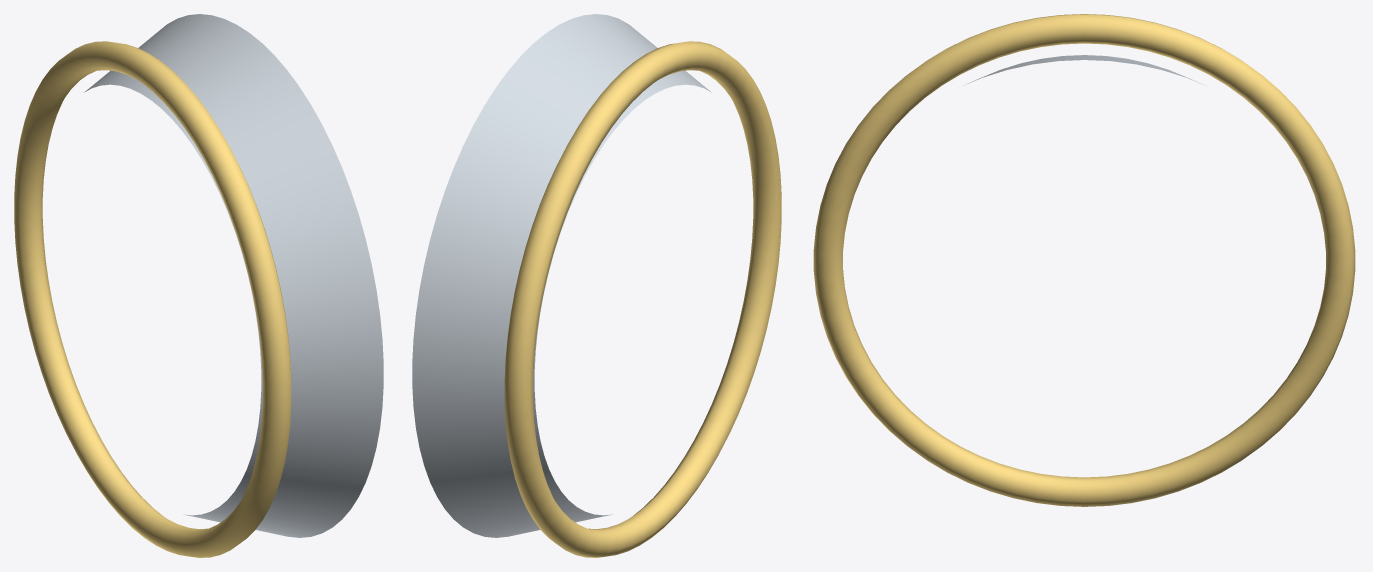
Rendered from 05_L85_DockingPassiveCaptureCone.glb.
The picture shows the model from 3 angles, left to right: view 1: azimuth 30°, elevation 25°; view 2: azimuth 150°, elevation 25°; view 3: azimuth 270°, elevation 25°; orthographic projection. The views are drawn at different scales.
Visible parts, largest first — view 1: L85_DockingPassiveCaptureCone_Part_0000, L85_DockingPassiveCaptureCone_Part_0001; view 2: L85_DockingPassiveCaptureCone_Part_0000, L85_DockingPassiveCaptureCone_Part_0001; view 3: L85_DockingPassiveCaptureCone_Part_0001, L85_DockingPassiveCaptureCone_Part_0000.
Boxes of the visible parts, box(x1,y1,x2,y2) form: L85_DockingPassiveCaptureCone_Part_0000: box(84, 14, 383, 537); L85_DockingPassiveCaptureCone_Part_0001: box(14, 41, 291, 557); L85_DockingPassiveCaptureCone_Part_0000: box(412, 14, 711, 537); L85_DockingPassiveCaptureCone_Part_0001: box(504, 41, 781, 557); L85_DockingPassiveCaptureCone_Part_0001: box(813, 14, 1355, 506); L85_DockingPassiveCaptureCone_Part_0000: box(965, 55, 1203, 84).
Bounding box in the file's own units: 0.6888 × 2.92 × 2.92.
